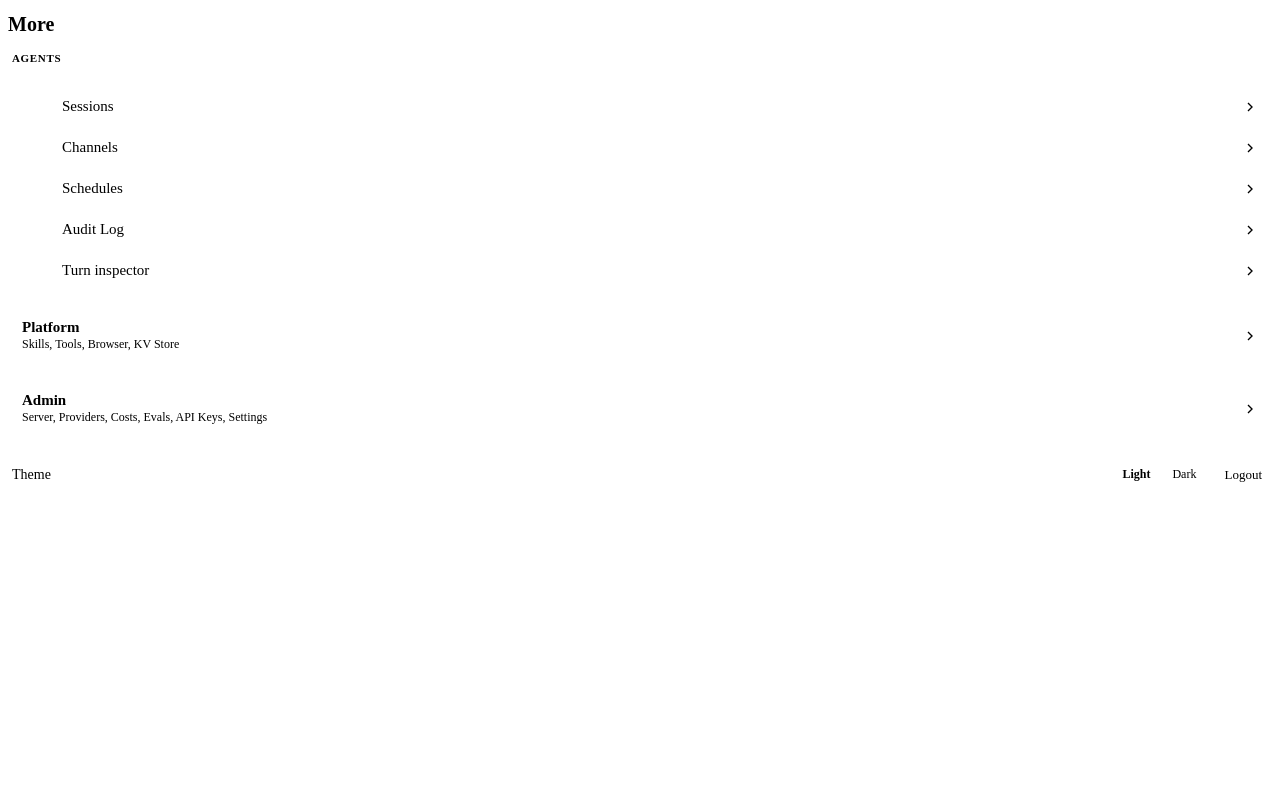
Test: MoreMenu › Platform and Admin open in place, and Tools is reachable
The width and height of the screenshot is (1280, 800).
Click the button "Platform Skills, Tools, Browser, KV Store". click: (51, 327)
box: [8,307,1272,364]
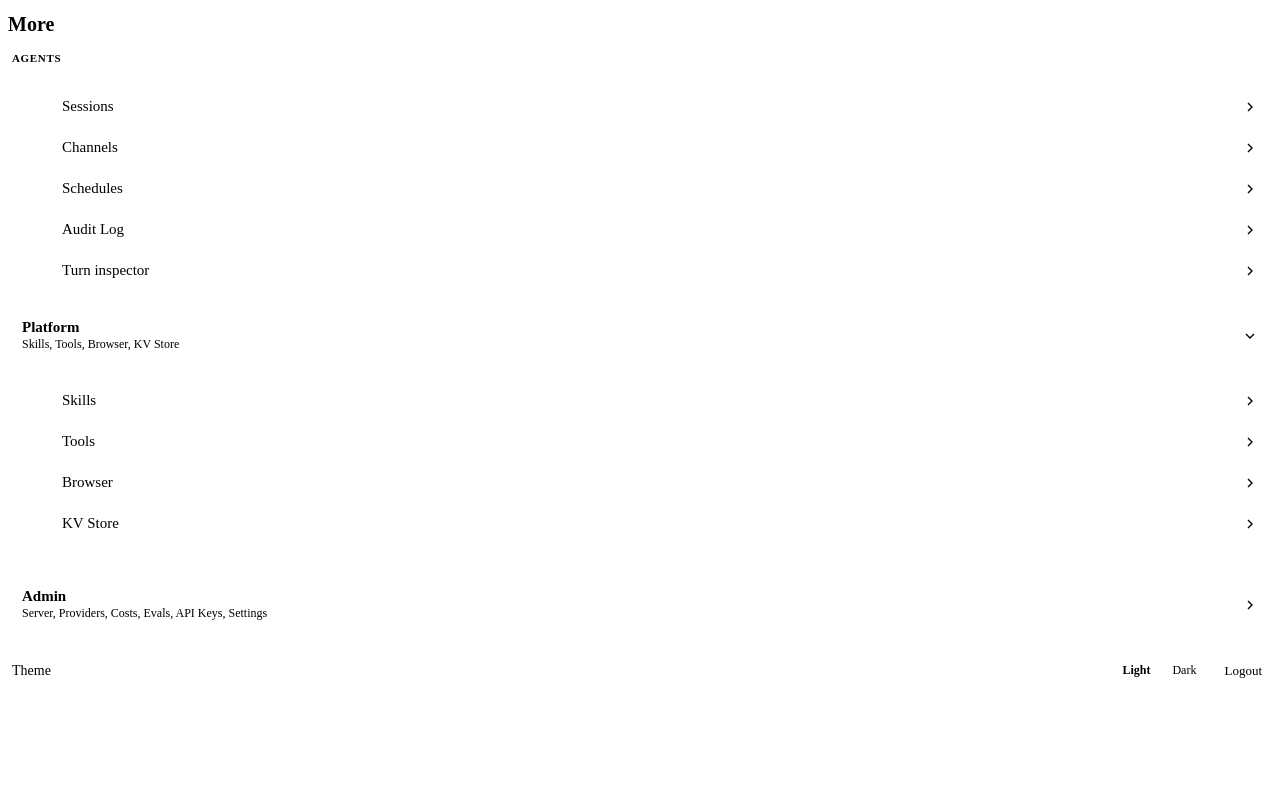
Now the button "Platform Skills, Tools, Browser, KV Store" is expanded, box [8,307,1272,364]
Now the button "Tools" is shown, box [48,421,1272,462]
Now the button "Skills" is shown, box [48,380,1272,421]
